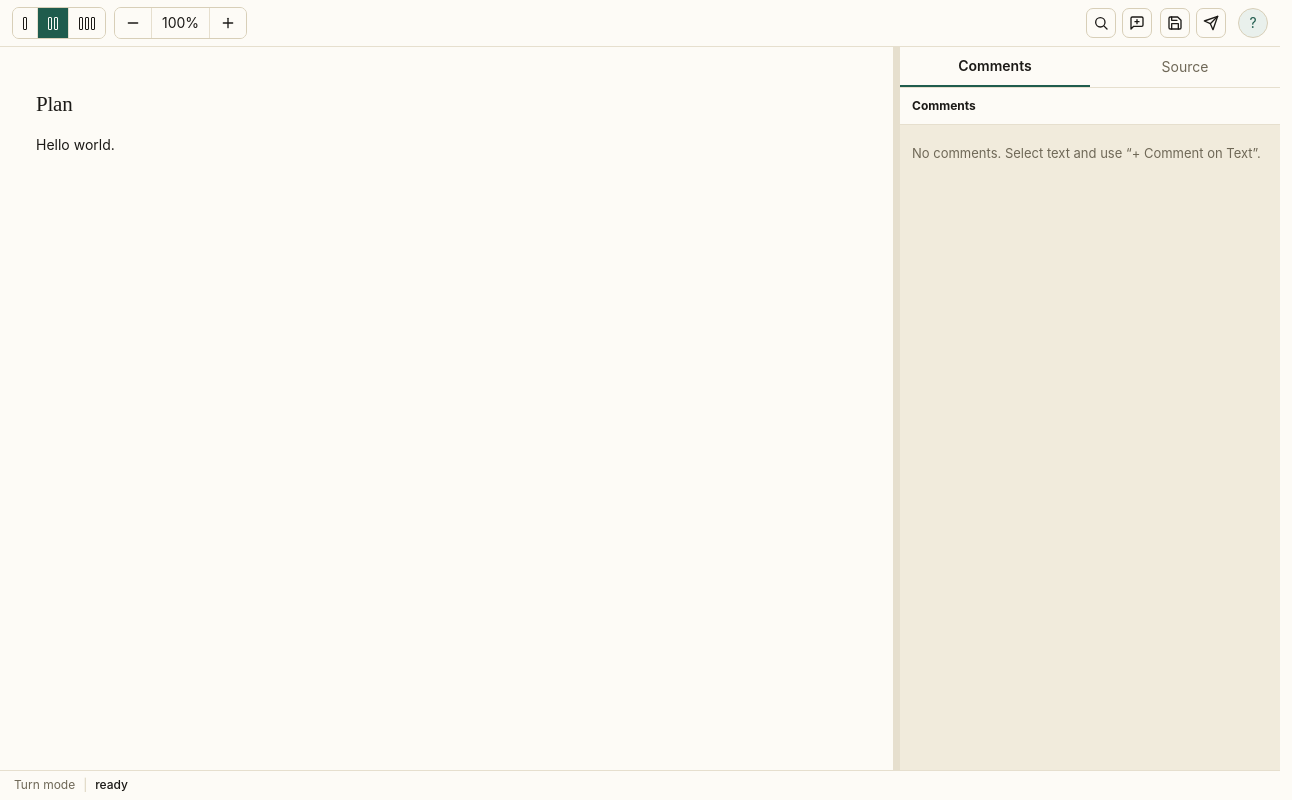
Test case: App comment creation (memory-backed) › creates a document-level comment via the 'Comment' button
Click the button named "comment on doc". click: [1137, 23]
box: [1122,8,1152,38]
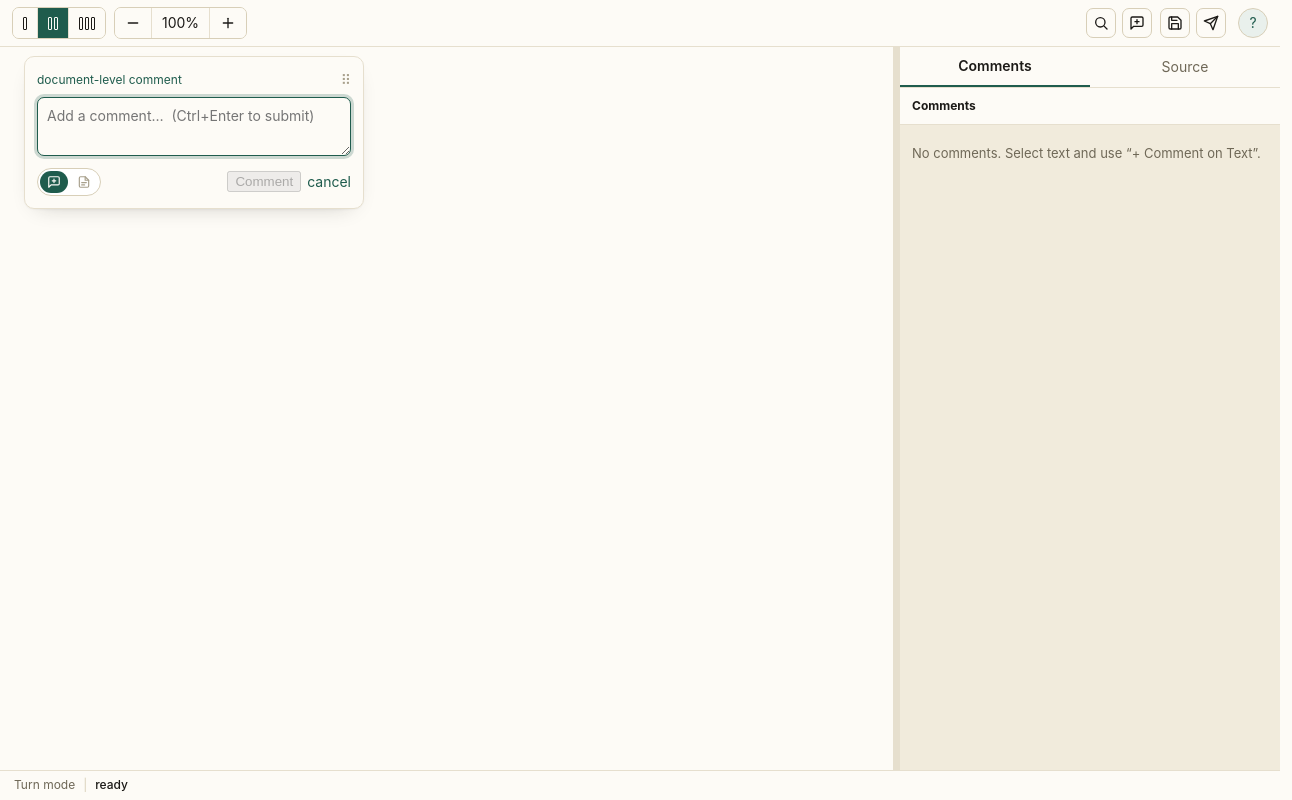
Type "Please clarify the rollout plan." into the dropdown with placeholder "Add a comment… (Ctrl+Enter to submit)". click: [194, 126]
box: [37,97,351,156]
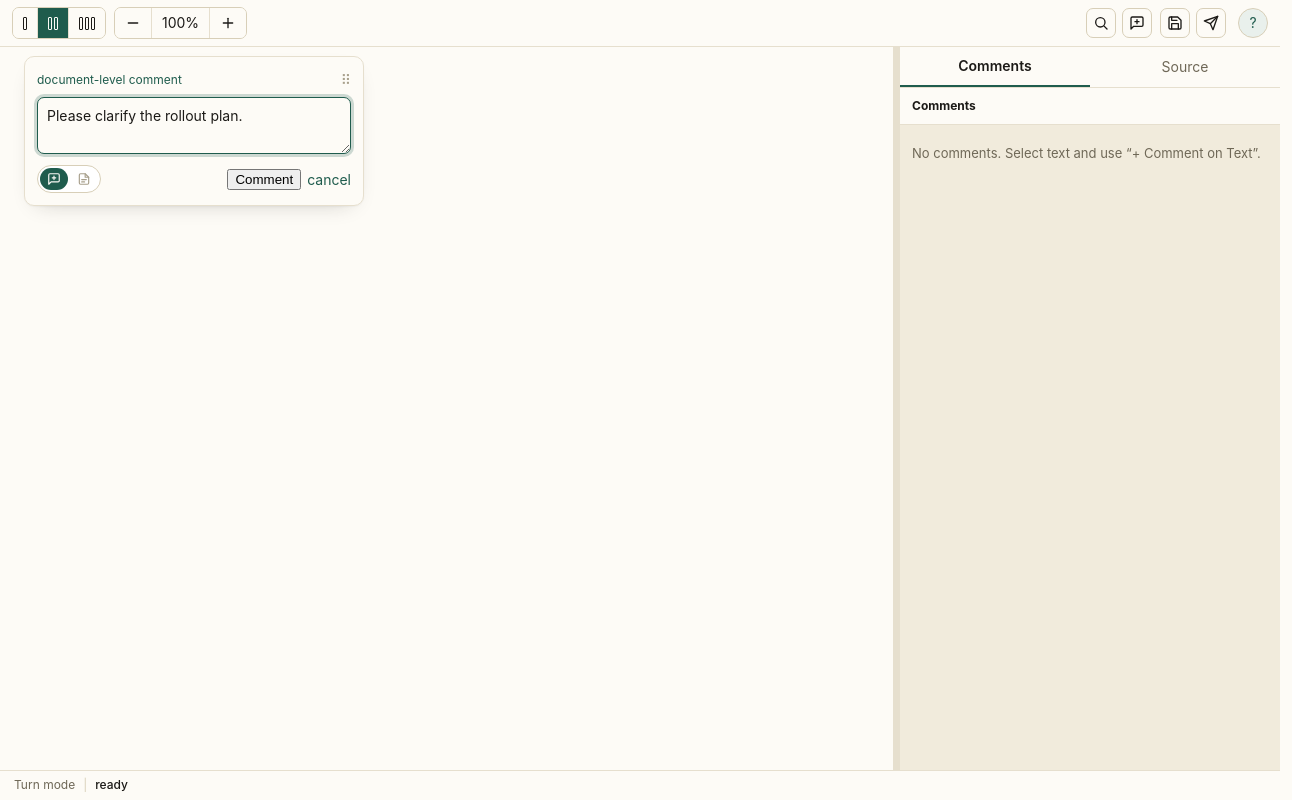
Click the button "Comment". click: [264, 179]
box: [227,169,301,190]
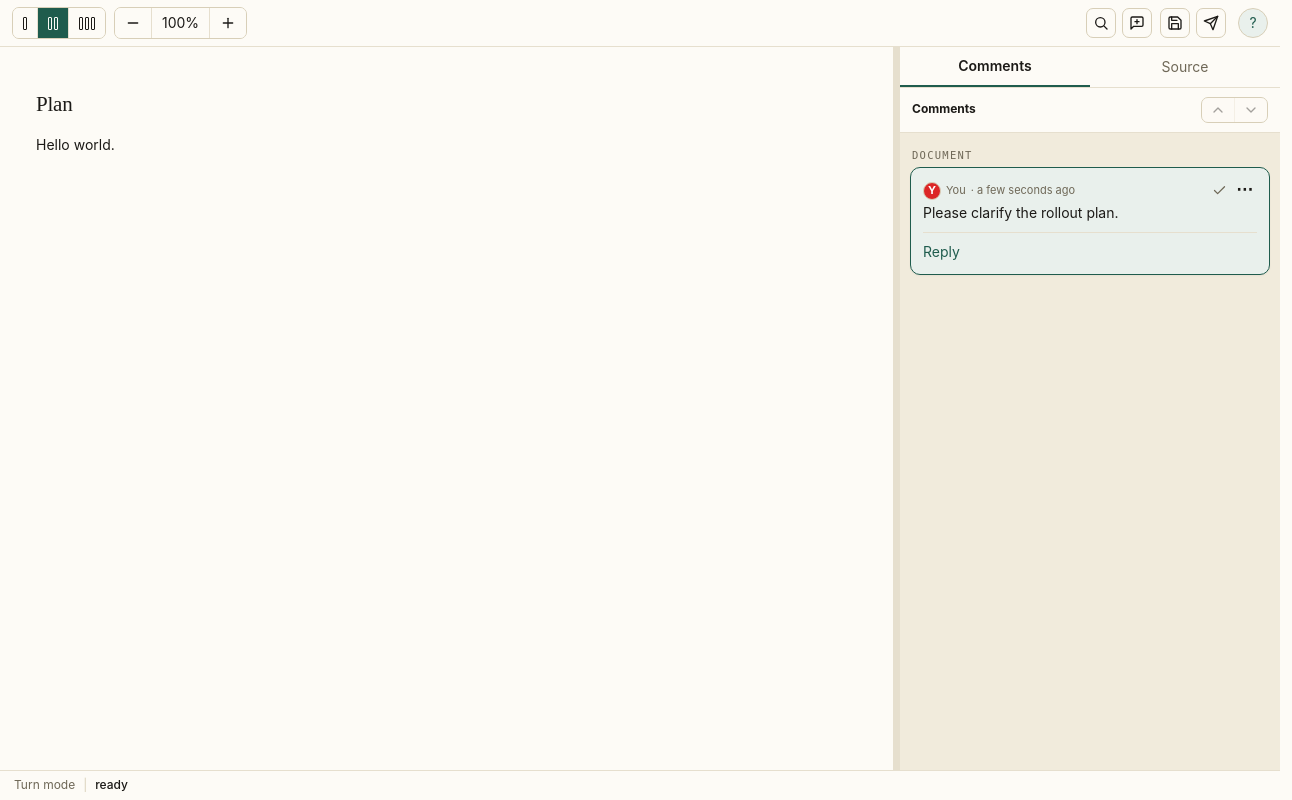
Expected: the field with placeholder "Add a comment" is not shown
Expected: the text "Please clarify the rollout plan." is shown, [923,204,1118,221]
